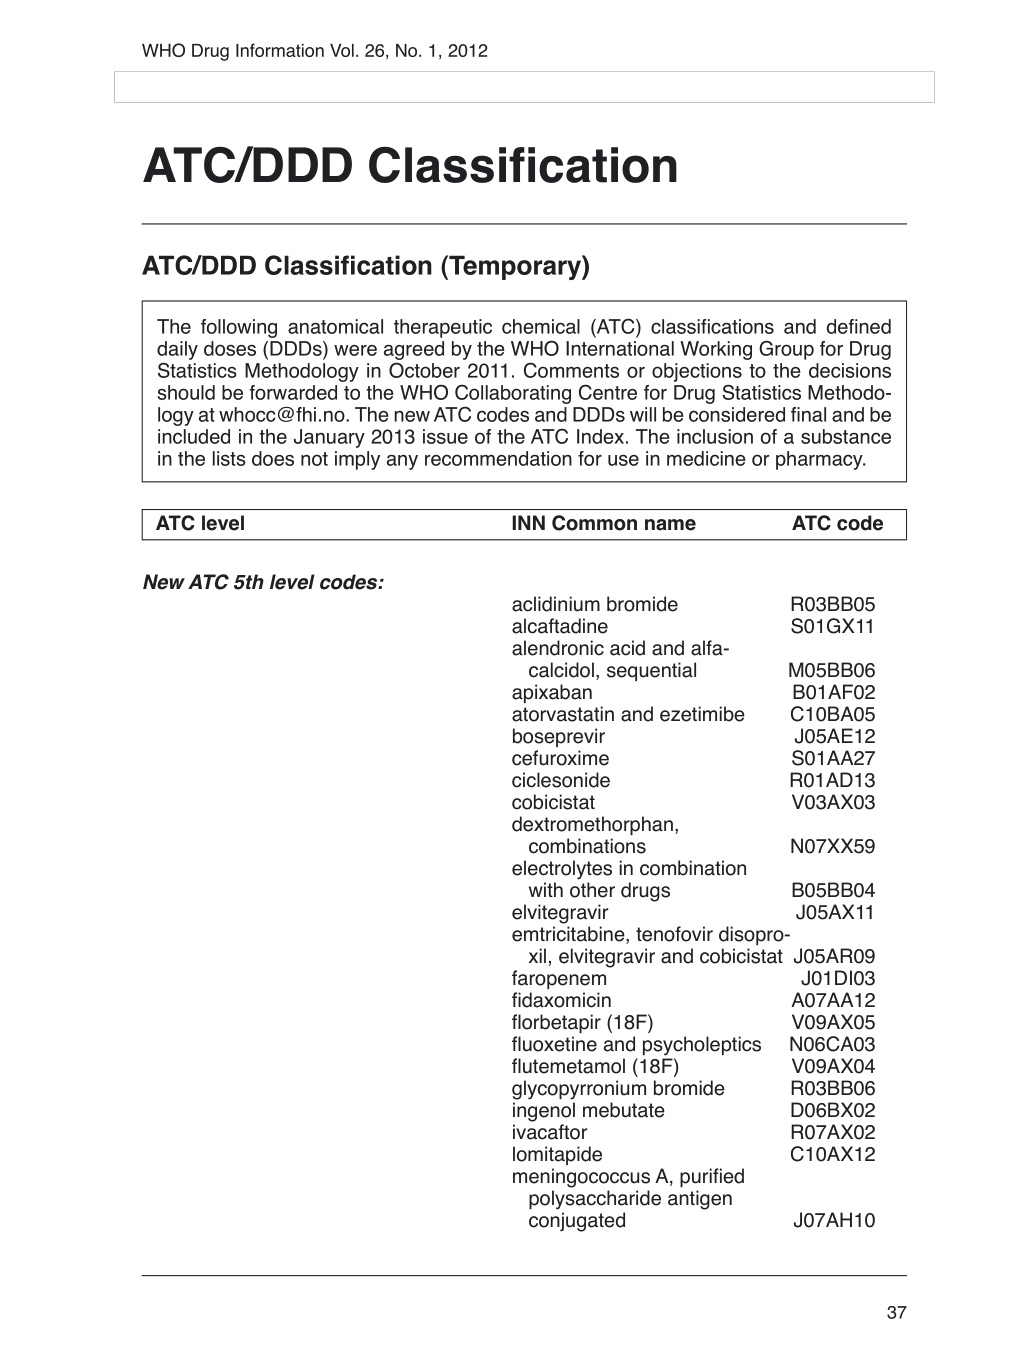partial_lined: (139, 507, 909, 1276)
